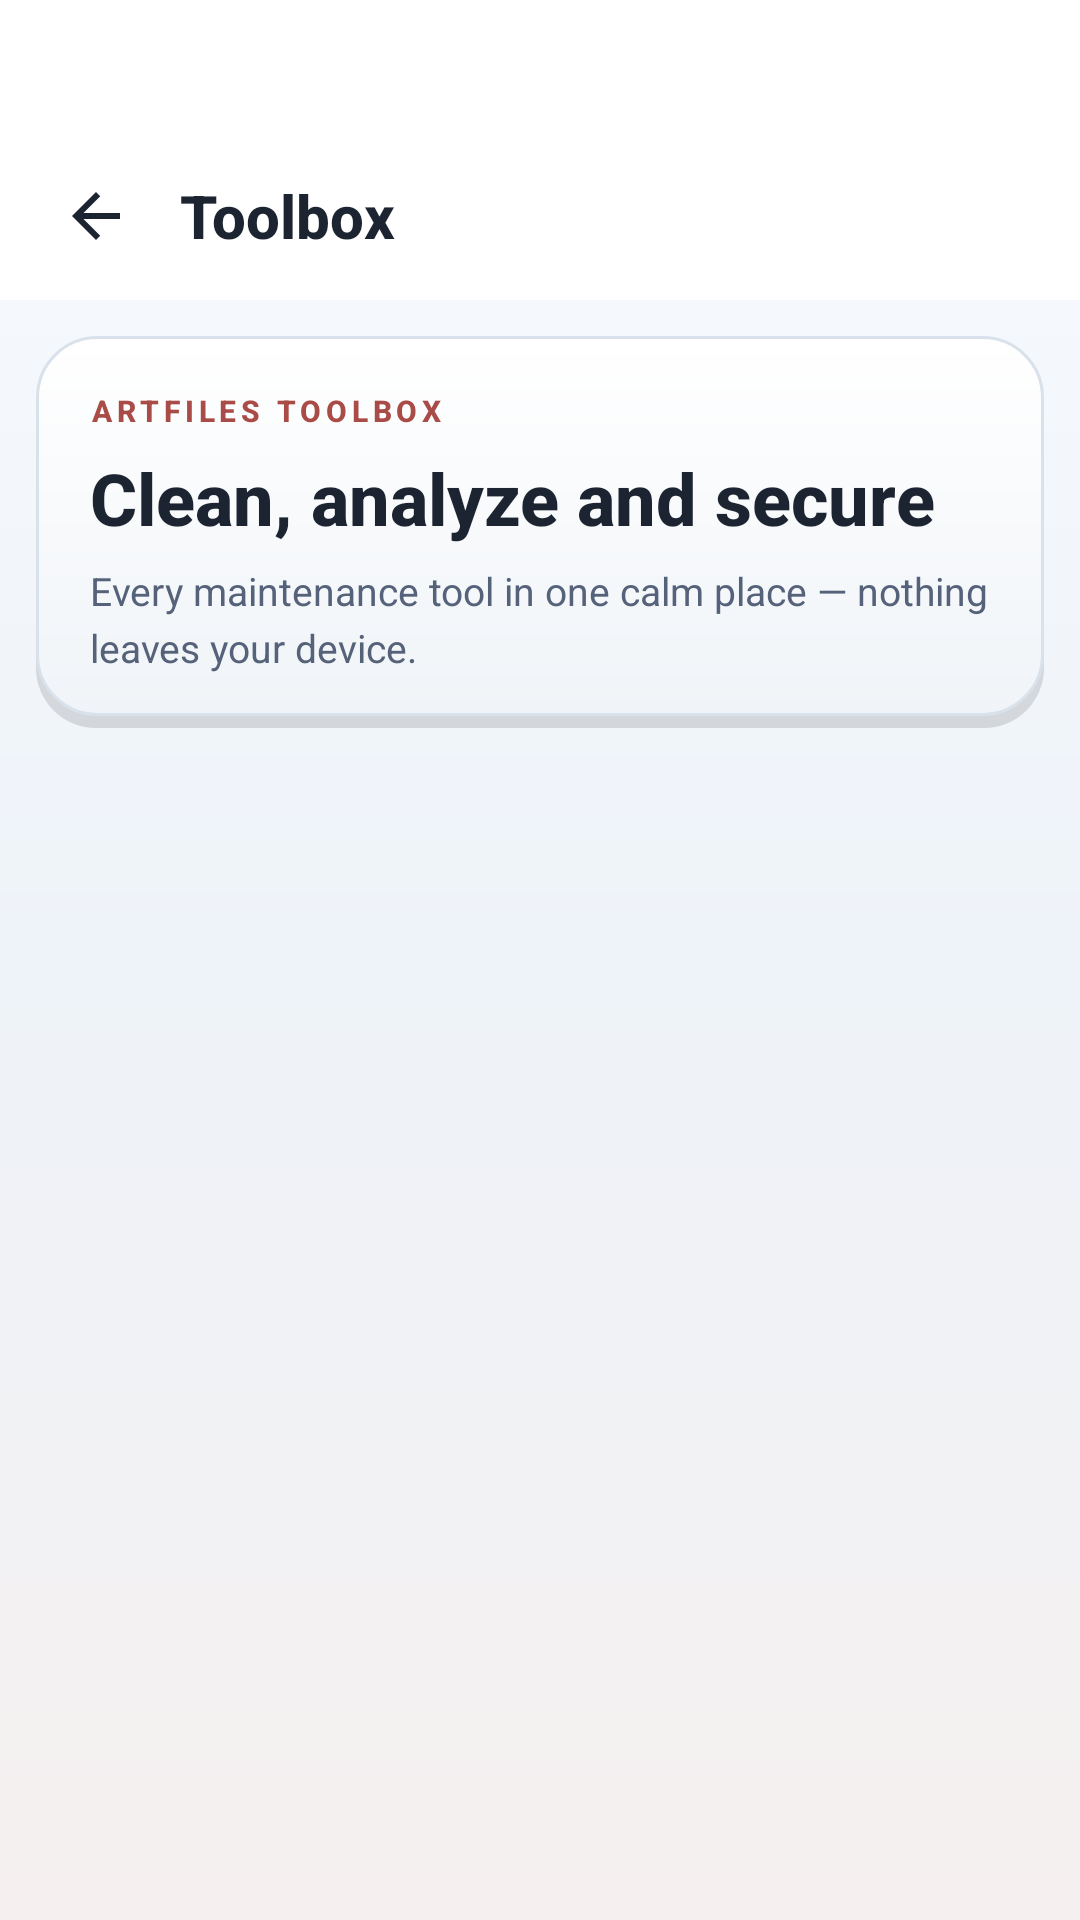

Icons on this 1080*1920 Android screen, each with its box as detection(x1, y1, x2, y2):
Back: detection(72, 192, 120, 240)
